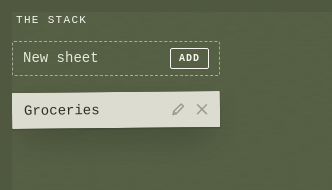
Test case: Sidebar › cancels an inline rename without renaming
Click the button named "Rename Groceries": (178, 109) [168, 99, 188, 119]
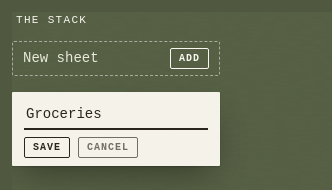
Click the button "Cancel": (108, 147) [78, 136, 138, 158]
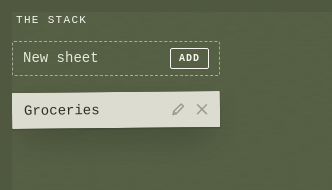
Now the button "Groceries" is shown, box [12, 91, 220, 128]
